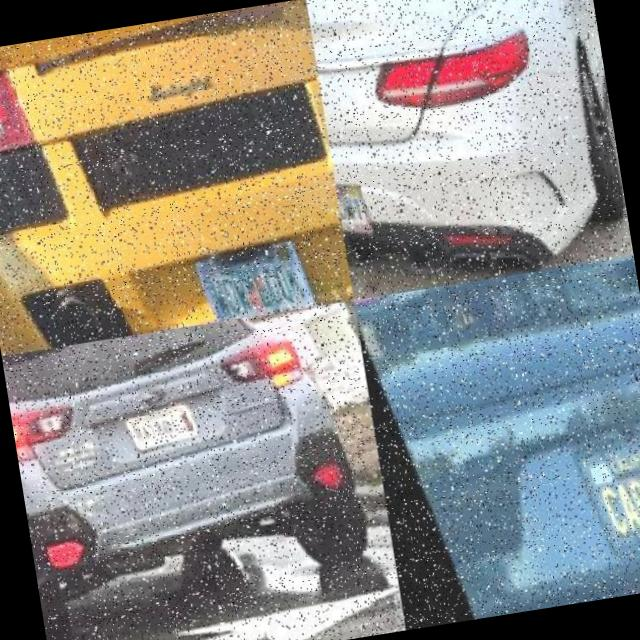LicensePlate: (187, 234, 311, 321), (568, 415, 640, 561), (117, 395, 194, 446), (334, 180, 368, 231)
